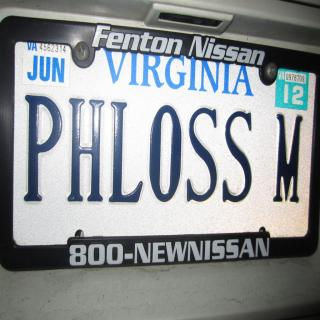license: (1, 16, 320, 274)
